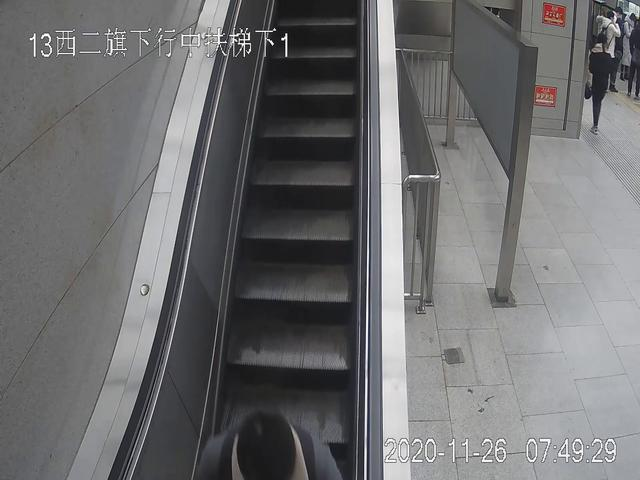person: (584, 32, 610, 134)
